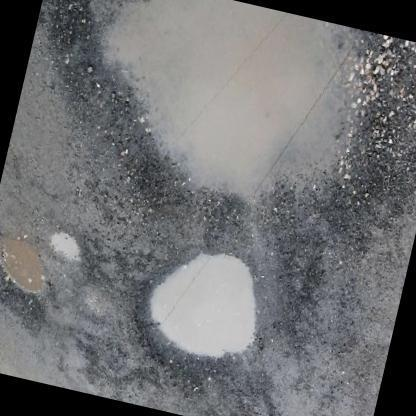pothole: (35, 0, 406, 262), (132, 250, 304, 390), (0, 213, 107, 325)
